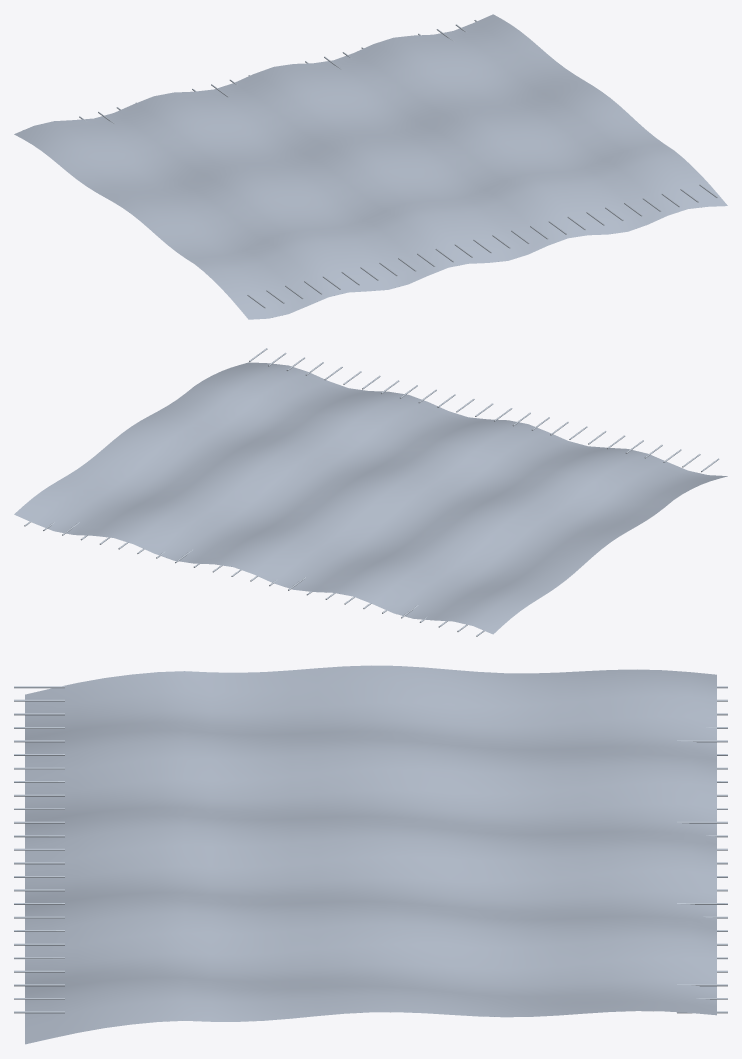
Rendered from 沙发毯.glb.
3 views of the same model, one above another, from view 1: azimuth 30°, elevation 25°; view 2: azimuth 150°, elevation 25°; view 3: azimuth 270°, elevation 25° (orthographic). The views are drawn at different scales.
Visible parts, largest first — view 1: soft, light; view 2: soft, light; view 3: soft, light.
Boxes of the visible parts, left/top/right/bottom form: soft: left=14, top=14, right=727, bottom=319; light: left=23, top=20, right=717, bottom=308; soft: left=14, top=362, right=727, bottom=634; light: left=24, top=348, right=719, bottom=636; soft: left=25, top=665, right=716, bottom=1044; light: left=14, top=686, right=727, bottom=1013.
Size of the model in its own units: 1.12 by 0.0548 by 0.98.
